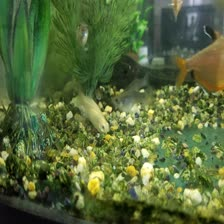Guppy: (70, 82, 107, 135), (110, 87, 160, 116)
Transparente: (171, 24, 223, 100)
